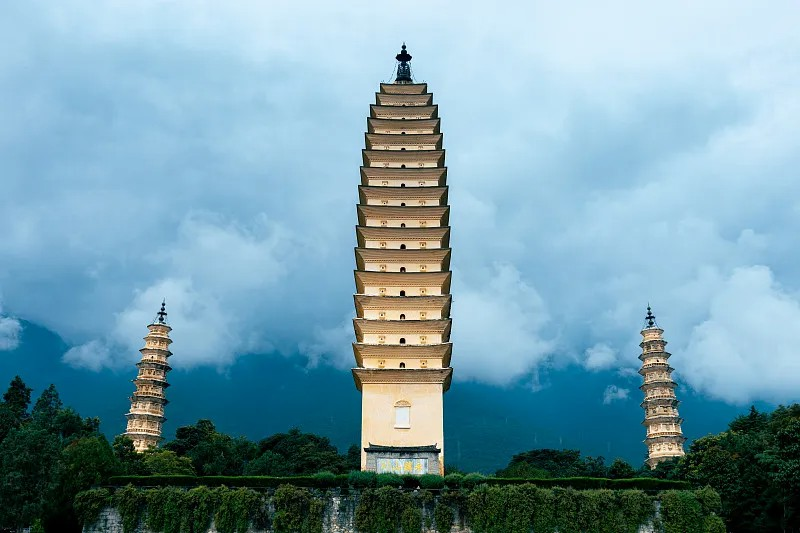ThreePagoda: (352, 41, 453, 476)
